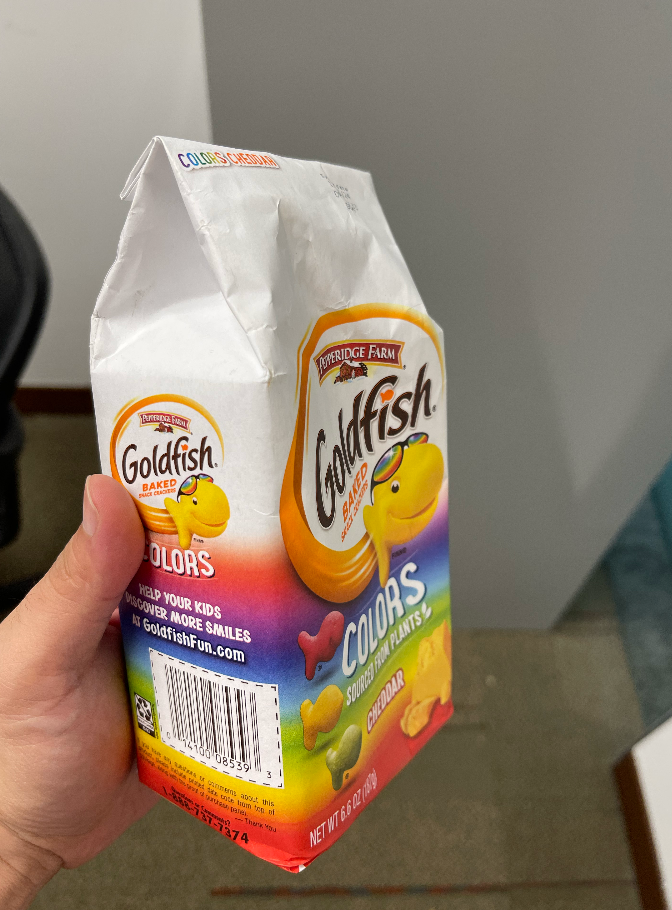crackers_100g-199g: (137, 272, 455, 809)
